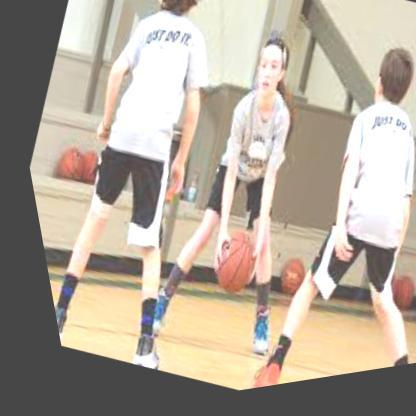basketball: (191, 230, 257, 304), (259, 258, 302, 308), (40, 142, 85, 189), (63, 147, 101, 190), (372, 283, 409, 326), (397, 286, 416, 330)
